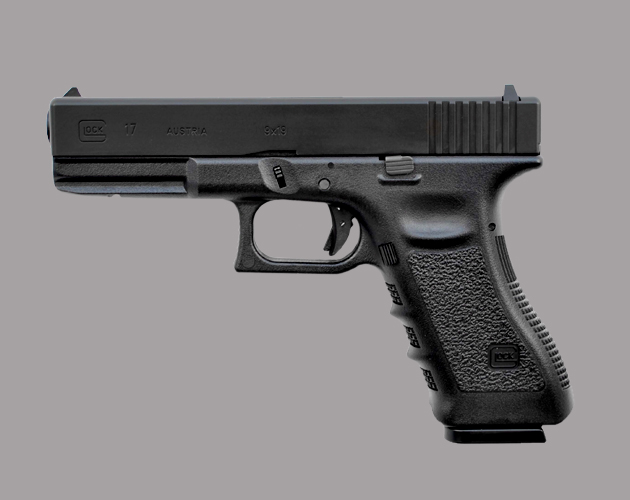Arma Real: (48, 84, 600, 449)
